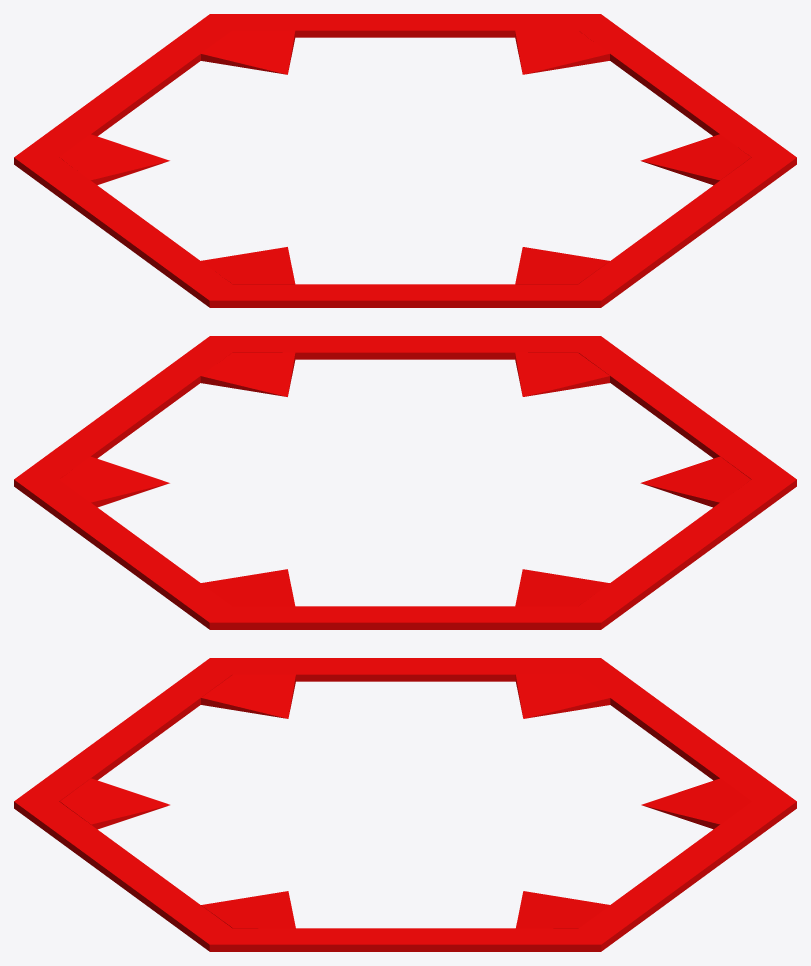
File: AttackMarker.fbx
3 views of the same model, one above another, from view 1: azimuth 30°, elevation 25°; view 2: azimuth 150°, elevation 25°; view 3: azimuth 270°, elevation 25° (orthographic).
Visible parts, largest first — view 1: AttackMarker; view 2: AttackMarker; view 3: AttackMarker.
Boxes of the visible parts, x1,y1,x2,y2 form: AttackMarker: (14,14,796,307); AttackMarker: (14,336,796,629); AttackMarker: (14,658,796,951).
Size of the model in its own units: 173 by 2 by 200.
